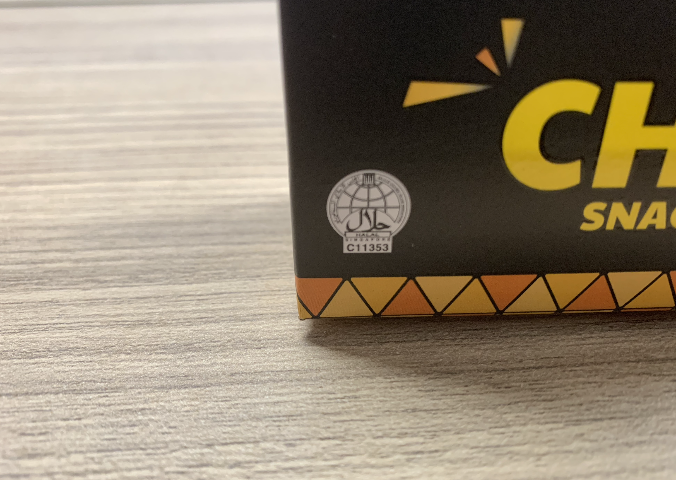halal: (337, 180, 397, 249)
